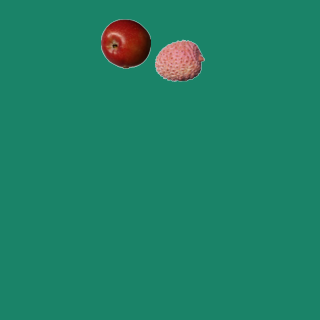Apple Braeburn: (100, 18, 150, 68)
Lychee: (154, 35, 204, 85)
